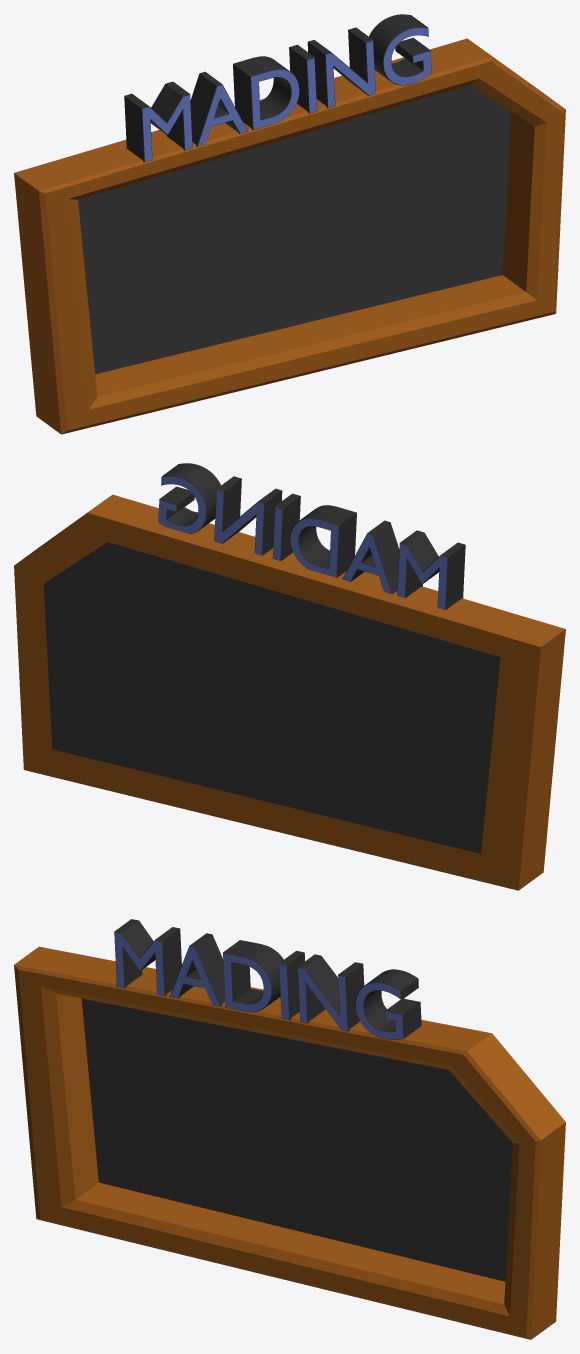
Rendered from Mading2.fbx.
3 views of the same model, one above another, from view 1: azimuth 30°, elevation 25°; view 2: azimuth 150°, elevation 25°; view 3: azimuth 330°, elevation 25° (orthographic).
Parts seen in each view (by area): view 1: Papan tulis, Mading; view 2: Papan tulis, Mading; view 3: Papan tulis, Mading.
Part boxes in pixels (x1=…): Papan tulis: x1=14, y1=38, x2=565, y2=434; Mading: x1=124, y1=14, x2=431, y2=162; Papan tulis: x1=14, y1=494, x2=565, y2=890; Mading: x1=158, y1=463, x2=465, y2=609; Papan tulis: x1=14, y1=946, x2=565, y2=1339; Mading: x1=114, y1=919, x2=421, y2=1039.
Size of the model in its own units: 703 by 411 by 62.38.
